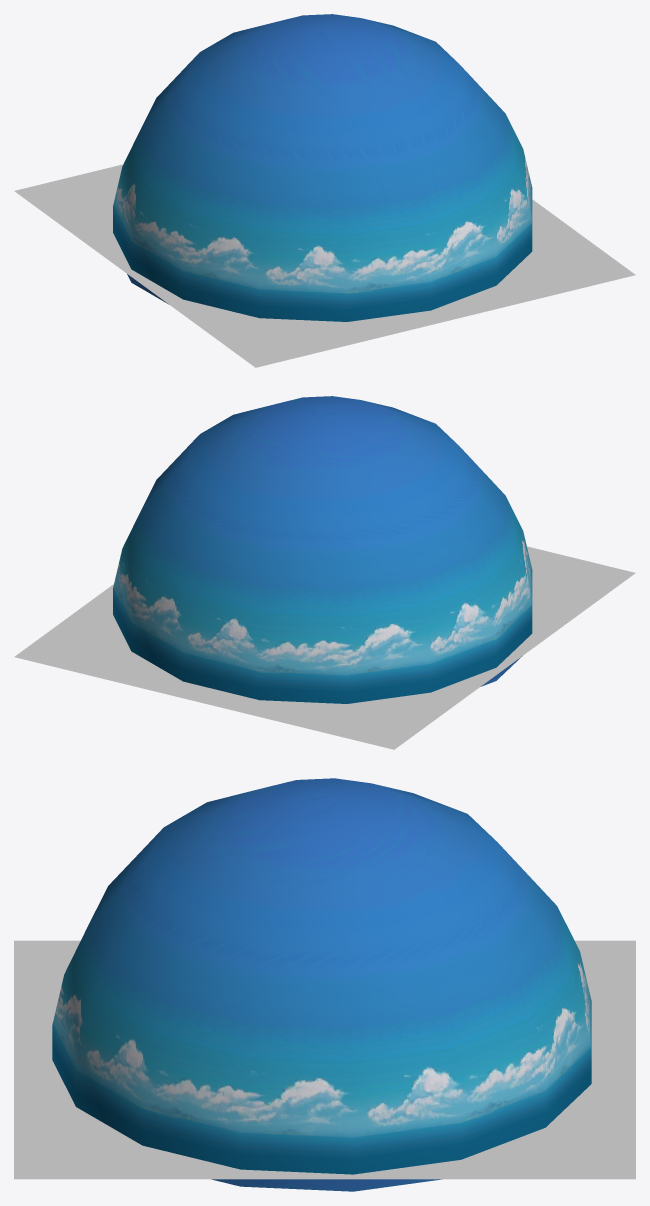
The model's file is hd03_gh_sky.FBX.
3 renders of one model, top to bottom at view 1: azimuth 30°, elevation 25°; view 2: azimuth 150°, elevation 25°; view 3: azimuth 270°, elevation 25°, orthographic. The views are drawn at different scales.
Visible parts, largest first — view 1: Sky_B_Lobby, Sea_B_Lobby; view 2: Sky_B_Lobby, Sea_B_Lobby; view 3: Sky_B_Lobby, Sea_B_Lobby.
Part boxes in pixels (bbox=[...]): Sky_B_Lobby: bbox=[113, 14, 532, 321]; Sea_B_Lobby: bbox=[14, 164, 635, 367]; Sky_B_Lobby: bbox=[113, 396, 532, 703]; Sea_B_Lobby: bbox=[14, 546, 635, 749]; Sky_B_Lobby: bbox=[52, 778, 591, 1191]; Sea_B_Lobby: bbox=[14, 940, 635, 1179].
Bounding box in the file's own units: 245672 × 133028 × 270425.
